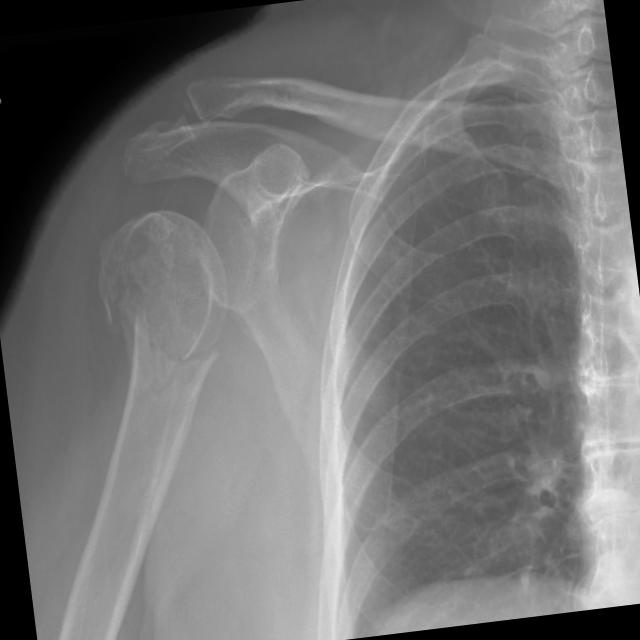shoulder fracture: (39, 208, 281, 449)
